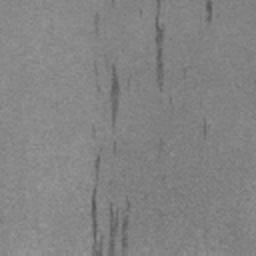Red iron sheet: (109, 208, 128, 256), (155, 0, 164, 92), (91, 186, 102, 256), (110, 64, 120, 128), (206, 0, 212, 23), (94, 155, 101, 174)
